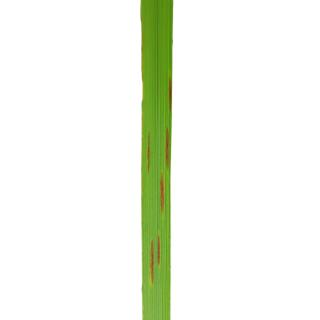Bercak-Cokelat-Sempit: (150, 234, 165, 286), (142, 132, 154, 174), (162, 126, 170, 172), (166, 75, 173, 118), (160, 173, 167, 216)
